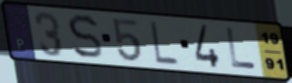3: (33, 9, 64, 59)
4: (194, 23, 222, 69)
5: (110, 16, 144, 63)
L: (224, 26, 259, 72), (148, 19, 181, 67)
S: (66, 12, 105, 61)
